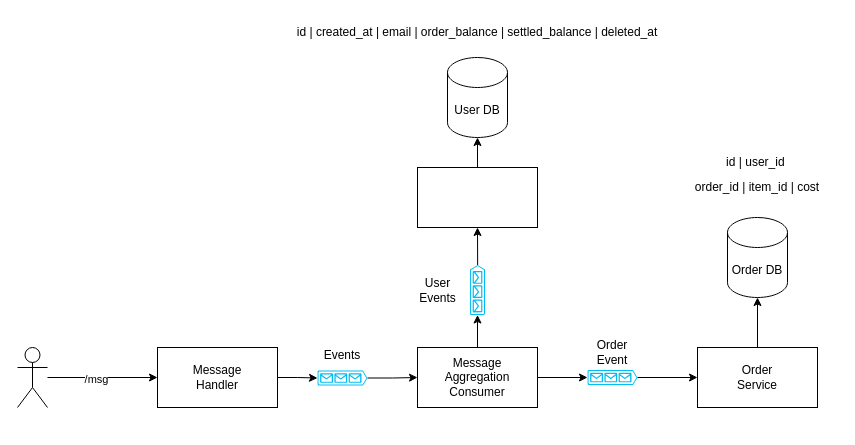
Some shapes in this 855 by 445 pixel diagram are drawn without their labels. The shapes that lost their labels are listed below. From the top down, each one's centre as x and y in pixels, then its label:
At (477,197): "User Service".
At (32,377): "Client".
